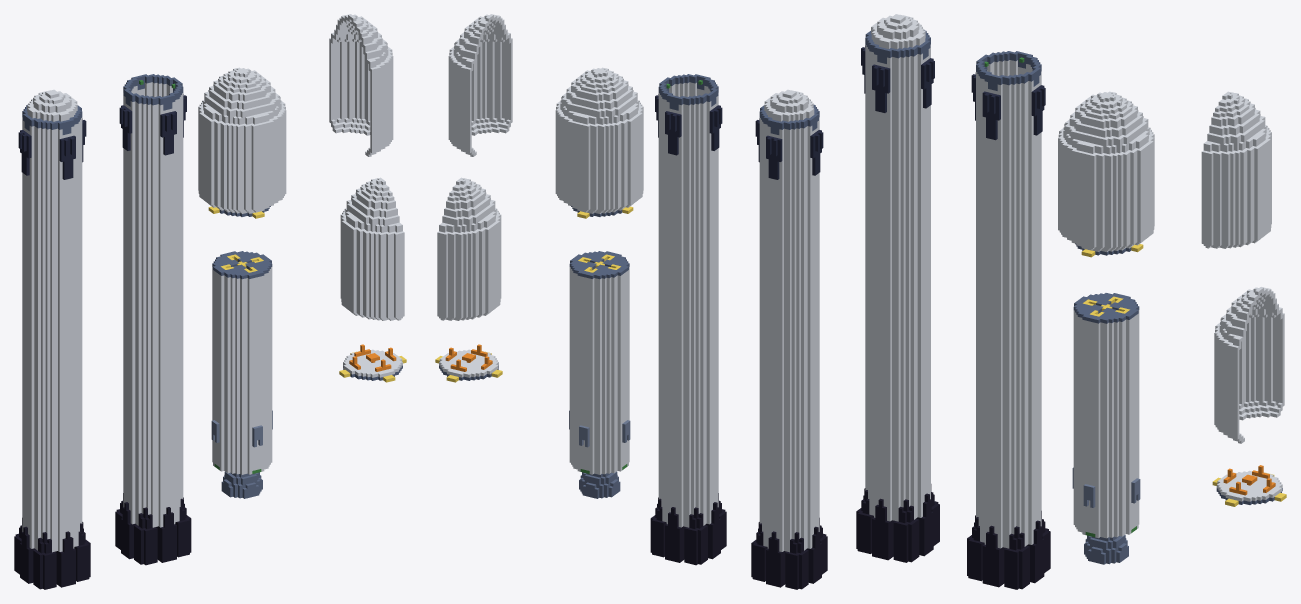
The model's file is pelicano_ix_all_parts.obj.
3 renders of one model, left to right at view 1: azimuth 30°, elevation 25°; view 2: azimuth 150°, elevation 25°; view 3: azimuth 330°, elevation 25°, orthographic. The views are drawn at different scales.
Size of the model in its own units: 12.9 by 15.6 by 2.5.
Materials: 1 (1 with a texture image).
